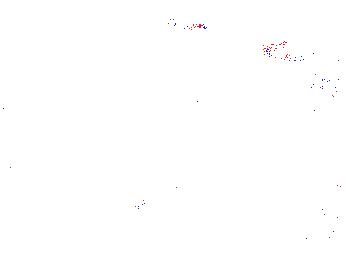glassfish: (242, 127, 309, 163), (125, 175, 182, 217)
red belly glassfish: (262, 43, 317, 62), (313, 76, 346, 94), (174, 20, 209, 34)
redtail glassfish: (109, 8, 183, 37)
